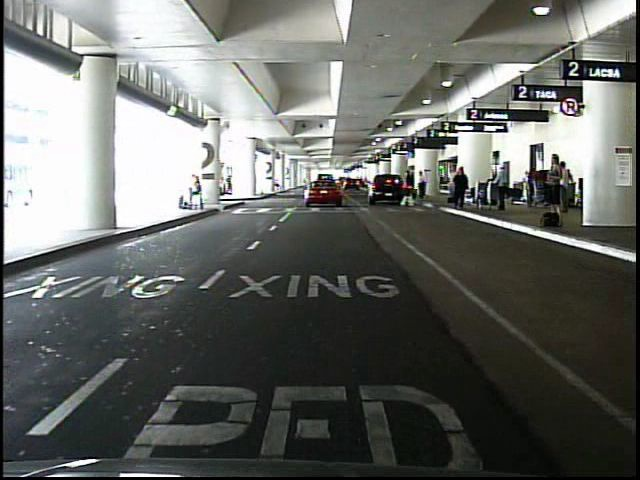person: (545, 151, 568, 214), (555, 162, 571, 212), (453, 166, 470, 210), (189, 173, 207, 214), (497, 164, 511, 211), (401, 168, 417, 207), (455, 165, 466, 203), (418, 169, 429, 200)
